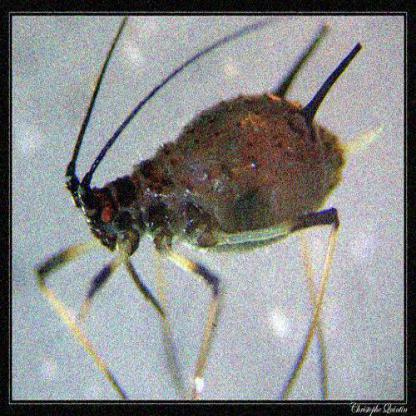uroleucon compositae: (65, 22, 383, 330)
